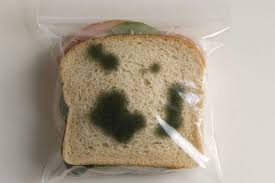mold_bread: (85, 84, 150, 146), (154, 80, 189, 145), (85, 38, 122, 75), (135, 59, 161, 75)
